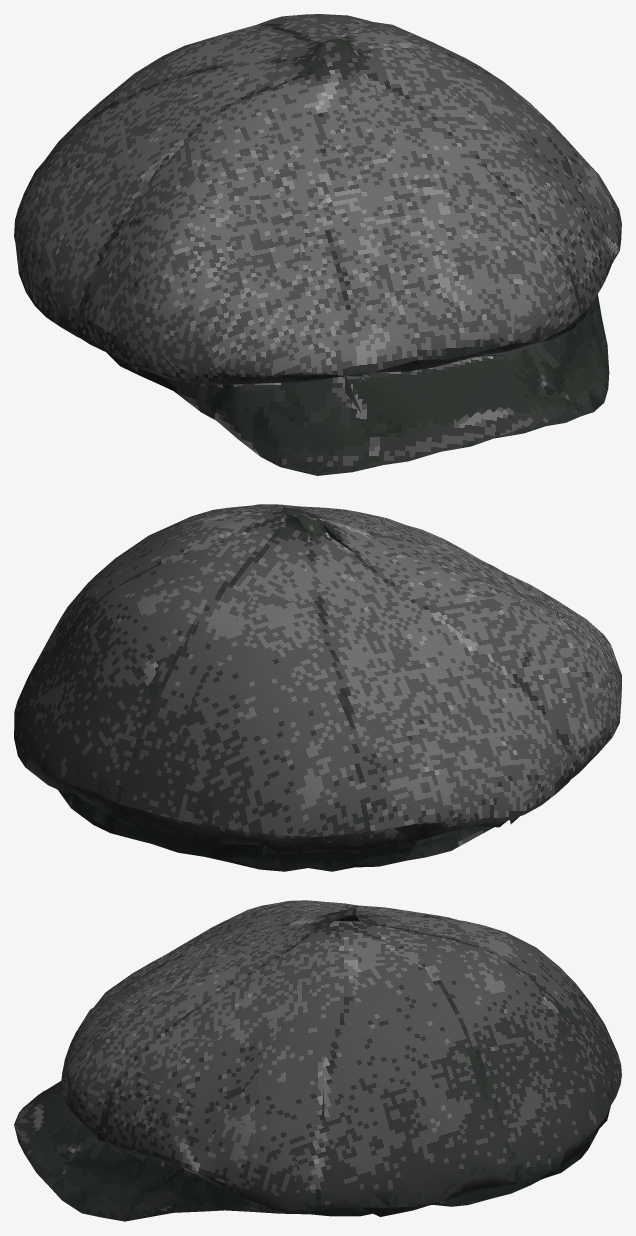
File: wear_flatcap.glb
3 views of the same model, one above another, from view 1: azimuth 30°, elevation 25°; view 2: azimuth 150°, elevation 25°; view 3: azimuth 270°, elevation 25° (orthographic). The views are drawn at different scales.
Visible parts, largest first — view 1: mesh; view 2: mesh; view 3: mesh.
Part boxes in pixels (left/top/right/bottom): mesh: left=14, top=14, right=621, bottom=475; mesh: left=14, top=504, right=621, bottom=871; mesh: left=14, top=900, right=621, bottom=1221.
Size of the model in its own units: 0.1938 by 0.1 by 0.2203.
Materials: 1 (1 with a texture image).
